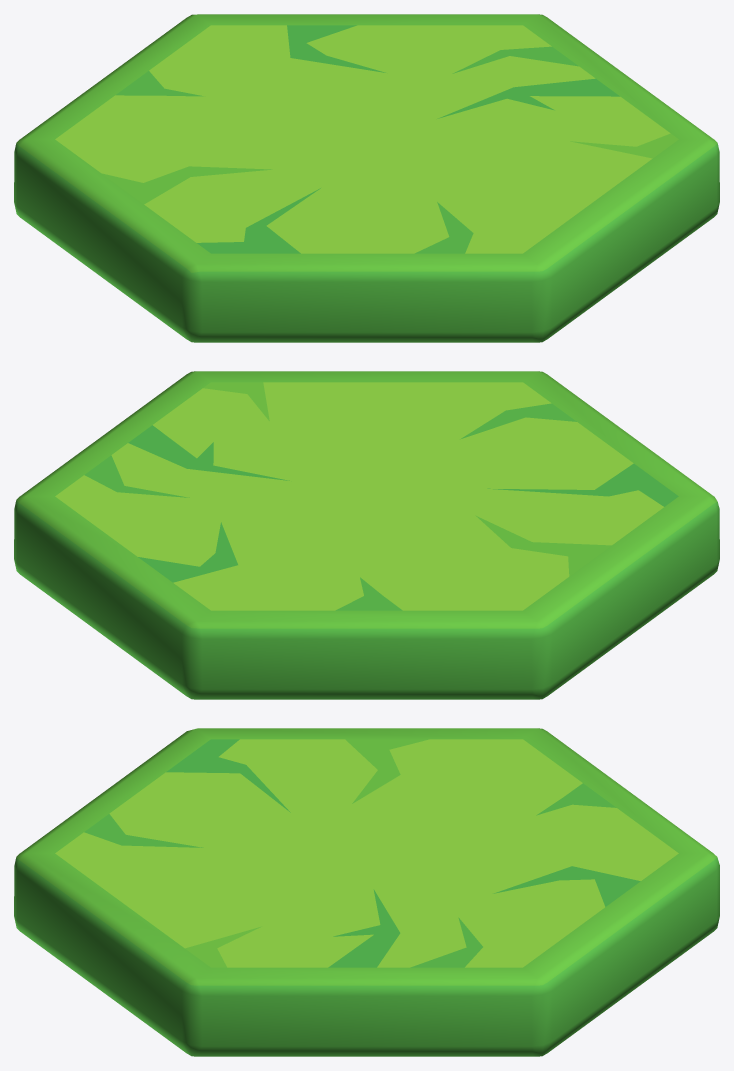
File: Platform green 3.fbx
3 views of the same model, one above another, from view 1: azimuth 30°, elevation 25°; view 2: azimuth 150°, elevation 25°; view 3: azimuth 270°, elevation 25° (orthographic).
Parts seen in each view (by area): view 1: Platform green 3; view 2: Platform green 3; view 3: Platform green 3.
Boxes of the visible parts, left/top/right/bottom form: Platform green 3: left=14, top=14, right=719, bottom=342; Platform green 3: left=14, top=371, right=719, bottom=699; Platform green 3: left=14, top=728, right=719, bottom=1056.
Bounding box in the file's own units: 625 × 83.5 × 715.
